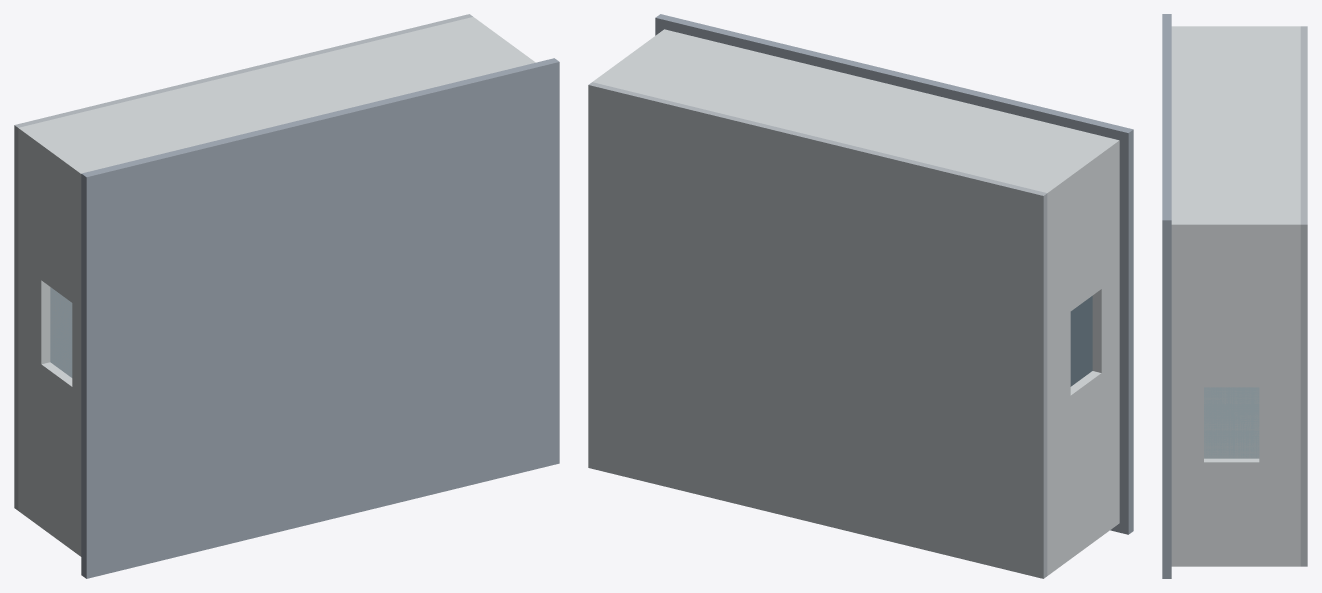
Rendered from building.glb.
3 views of the same model, side by side, from view 1: azimuth 30°, elevation 25°; view 2: azimuth 150°, elevation 25°; view 3: azimuth 270°, elevation 25° (orthographic). The views are drawn at different scales.
Visible parts, largest first — view 1: roof:0, north:0, west:3, west:0, floor:0, west:1, living:0, west:2; view 2: floor:0, north:0, roof:0, west:3, west:0, west:2, west:1, living:0, south:0, east:3; view 3: north:0, east:3, east:0, roof:0, floor:0, partition:0, room:0, east:1, east:2.
Part boxes in pixels (box(x1,y1,x2,y2)): roof:0: box(81, 58, 559, 578); north:0: box(18, 19, 526, 182); west:3: box(18, 348, 81, 547); west:0: box(18, 137, 81, 308); floor:0: box(14, 14, 472, 510); west:1: box(18, 263, 50, 364); living:0: box(50, 288, 71, 377); west:2: box(72, 303, 81, 393); floor:0: box(588, 82, 1047, 578); north:0: box(601, 31, 1119, 202); roof:0: box(655, 14, 1133, 534); west:3: box(1047, 360, 1119, 566); west:0: box(1047, 150, 1119, 328); west:2: box(1092, 276, 1119, 372); west:1: box(1047, 312, 1070, 412); living:0: box(1071, 296, 1092, 385); south:0: box(1047, 514, 1119, 575); east:3: box(592, 29, 672, 83); north:0: box(1171, 26, 1300, 220); east:3: box(1171, 220, 1300, 387); east:0: box(1171, 458, 1300, 566); roof:0: box(1162, 14, 1171, 578); floor:0: box(1300, 26, 1307, 566); partition:0: box(1204, 387, 1259, 458); room:0: box(1204, 387, 1258, 458); east:1: box(1259, 387, 1300, 462); east:2: box(1171, 387, 1203, 462).
Bounding box in the file's own units: 10.6 × 8.6 × 3.15.
